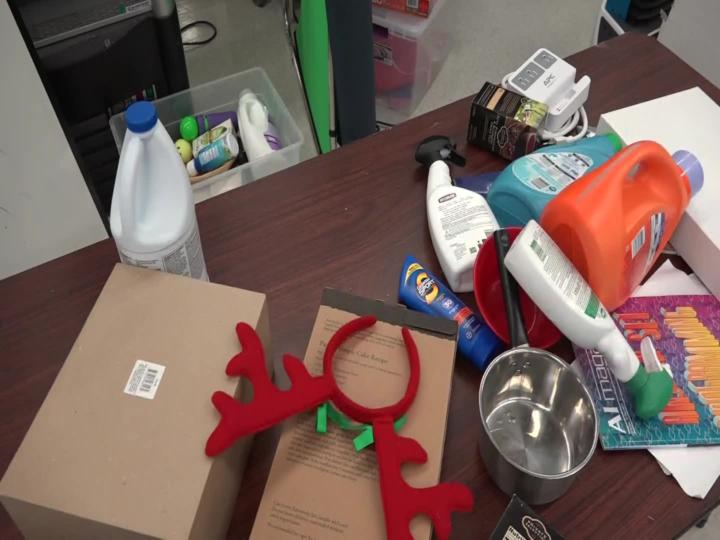downy: (474, 123, 636, 259)
